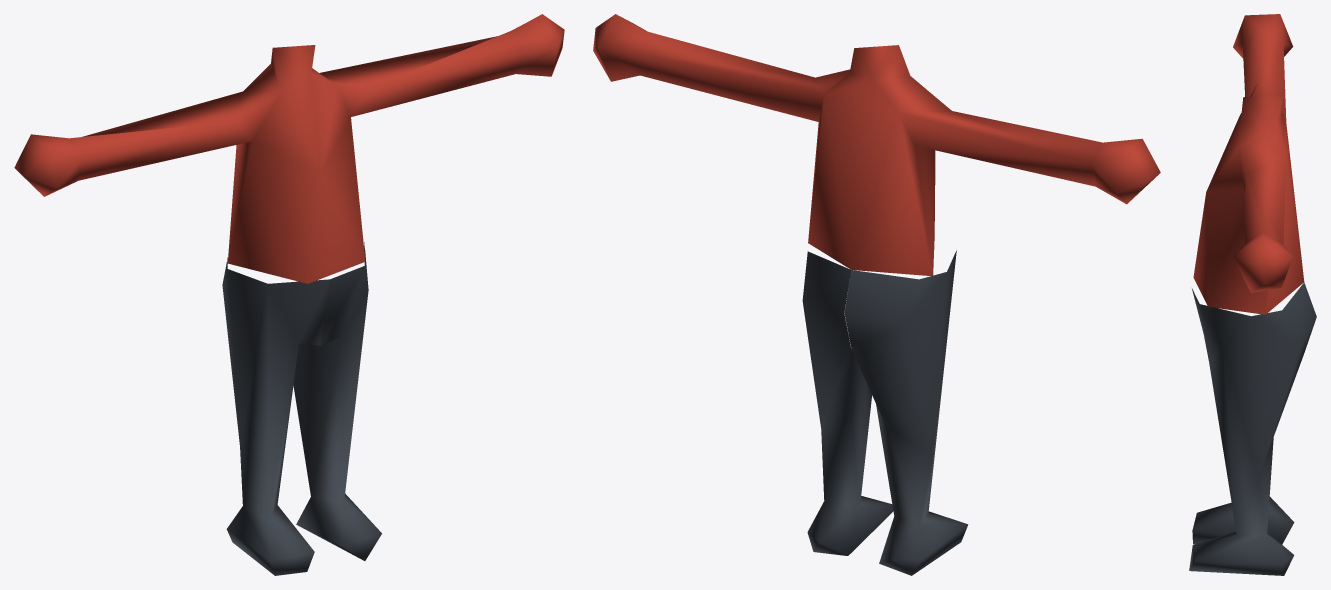
File: Male4.gltf
3 renders of one model, left to right at view 1: azimuth 30°, elevation 25°; view 2: azimuth 150°, elevation 25°; view 3: azimuth 270°, elevation 25°, orthographic. The views are drawn at different scales.
Parts seen in each view (by area): view 1: シャツ_Mesh_0002.rip_mesh0000.003, ズボン_Mesh_0002.rip_mesh0000.005, ズボン_Mesh_0002.rip_mesh0000.001; view 2: シャツ_Mesh_0002.rip_mesh0000.003, ズボン_Mesh_0002.rip_mesh0000.005, ズボン_Mesh_0002.rip_mesh0000.001; view 3: シャツ_Mesh_0002.rip_mesh0000.003, ズボン_Mesh_0002.rip_mesh0000.001, ズボン_Mesh_0002.rip_mesh0000.005.
Boxes of the visible parts, x1,y1,x2,y2 form: シャツ_Mesh_0002.rip_mesh0000.003: (14,14,564,283); ズボン_Mesh_0002.rip_mesh0000.005: (222,257,329,575); ズボン_Mesh_0002.rip_mesh0000.001: (293,242,381,560); シャツ_Mesh_0002.rip_mesh0000.003: (593,14,1160,275); ズボン_Mesh_0002.rip_mesh0000.005: (844,250,968,575); ズボン_Mesh_0002.rip_mesh0000.001: (802,251,893,555); シャツ_Mesh_0002.rip_mesh0000.003: (1193,14,1304,314); ズボン_Mesh_0002.rip_mesh0000.001: (1189,282,1316,575); ズボン_Mesh_0002.rip_mesh0000.005: (1192,336,1294,544).
Bounding box in the file's own units: 1.43 × 1.25 × 0.3125.
Materials: 2 (2 with a texture image).
